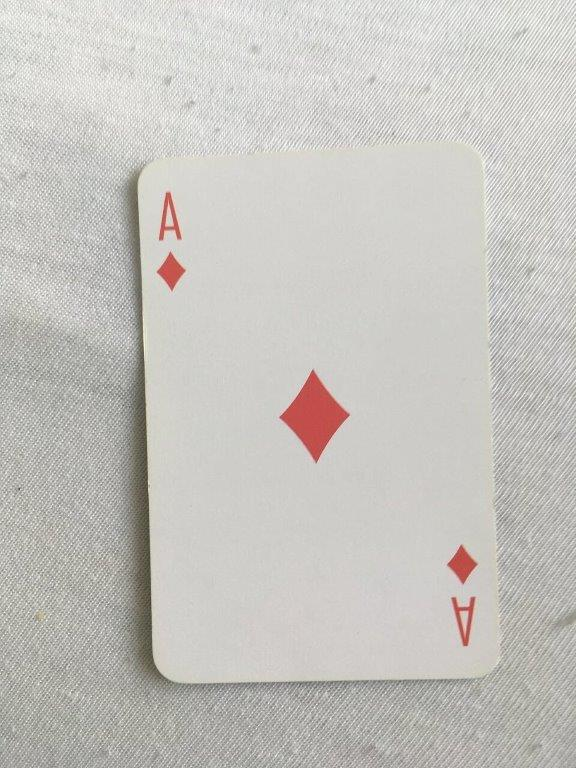AD: (132, 136, 506, 687)
